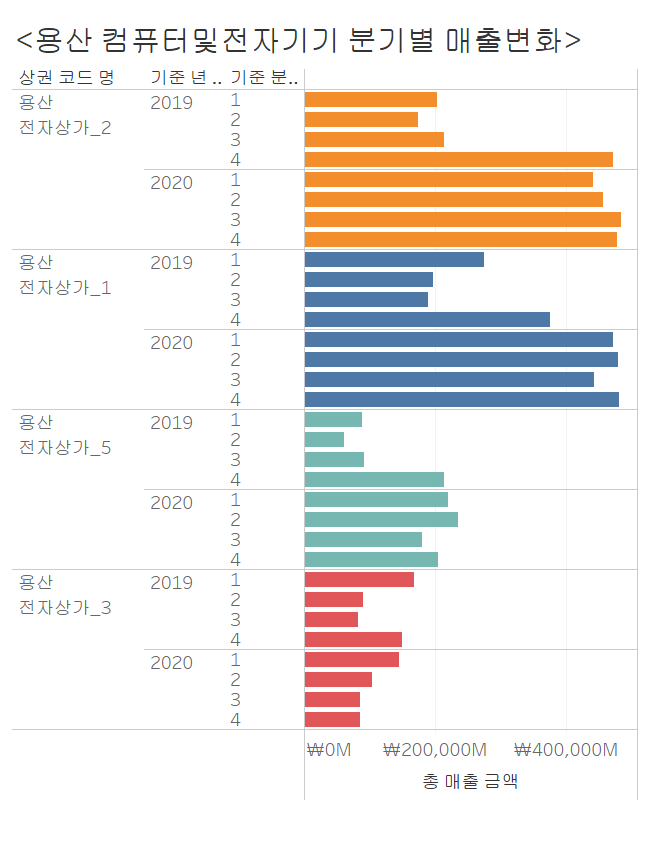

This screenshot's page, from the dashboard's own definition file:
{"tool":"tableau","page":{"name":"대시보드 3","canvas":[650,340],"ordinal":2},"visuals":[{"type":"worksheet","title":"2019-2020","mark":"Automatic","rows":["상권_구분_코드","상권_구분_코드_명","기준_년_코드"],"cols":["Calculation_1875467832722706446"],"box":[8,8,634,324]}]}

Visuals, with their boxes on the page's 650x340 design canvas (x1, y1, x2, y2). These are canvas units, not pixel positions in the 650x860 screenshot, which may show the page scaled, cropped or inside an application window:
"2019-2020" worksheet: (8,8,642,332)
